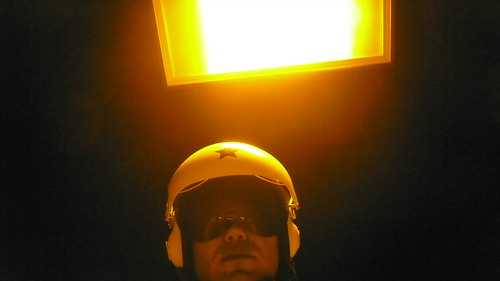helmet: (154, 125, 302, 201)
